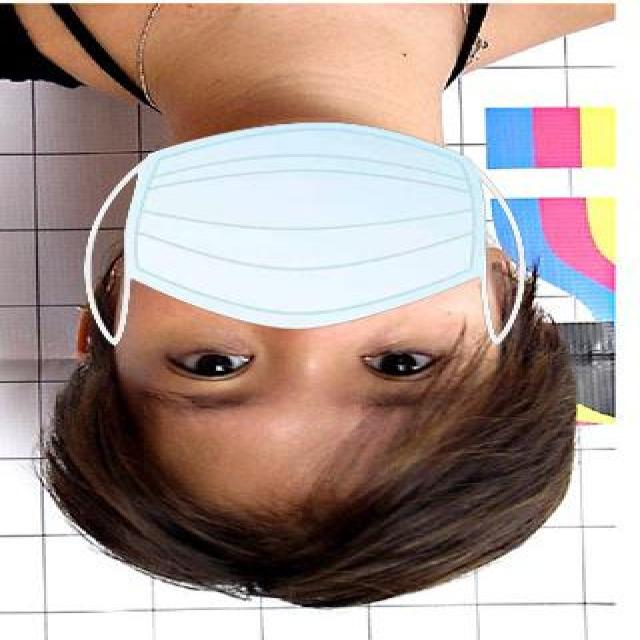mask: (85, 141, 523, 354)
